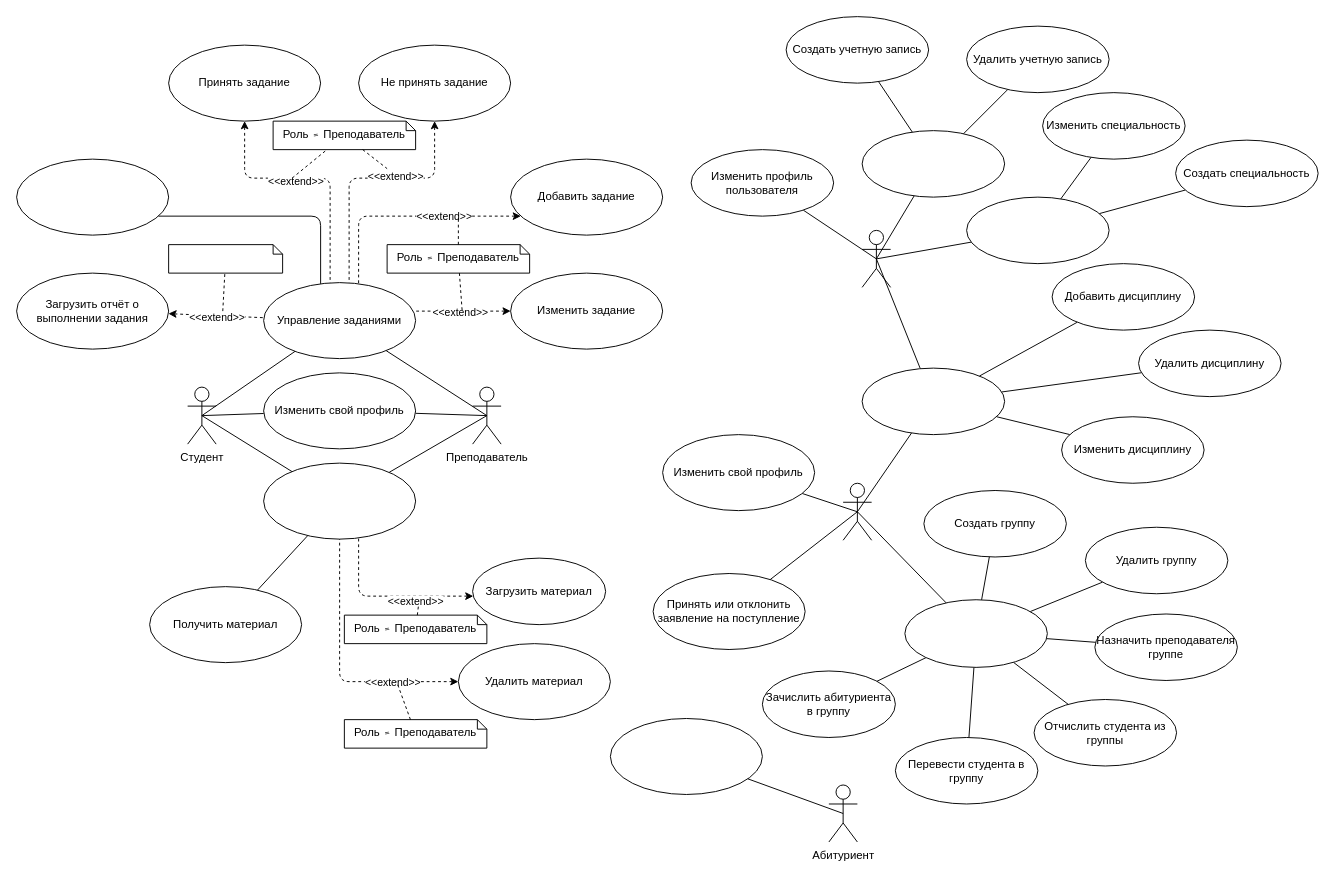
Some shapes in this 1335 by 879 pixel diagram are drawn without their labels. The box of each missing label's shape, as (x1, y1, x2, y2) in pixels:
Администратор: (861, 229, 891, 287)
Деканат: (842, 482, 872, 540)
Подать заявление на поступление: (609, 718, 762, 794)
Получить задание: (16, 158, 169, 235)
Роль = студент: (168, 244, 283, 273)
Управление группой: (904, 599, 1047, 667)
Управление дисциплиной: (861, 367, 1005, 435)
Управление материалами: (263, 462, 416, 539)
Управление специальностью: (966, 196, 1109, 264)
Управление учетными записями: (861, 130, 1005, 197)
